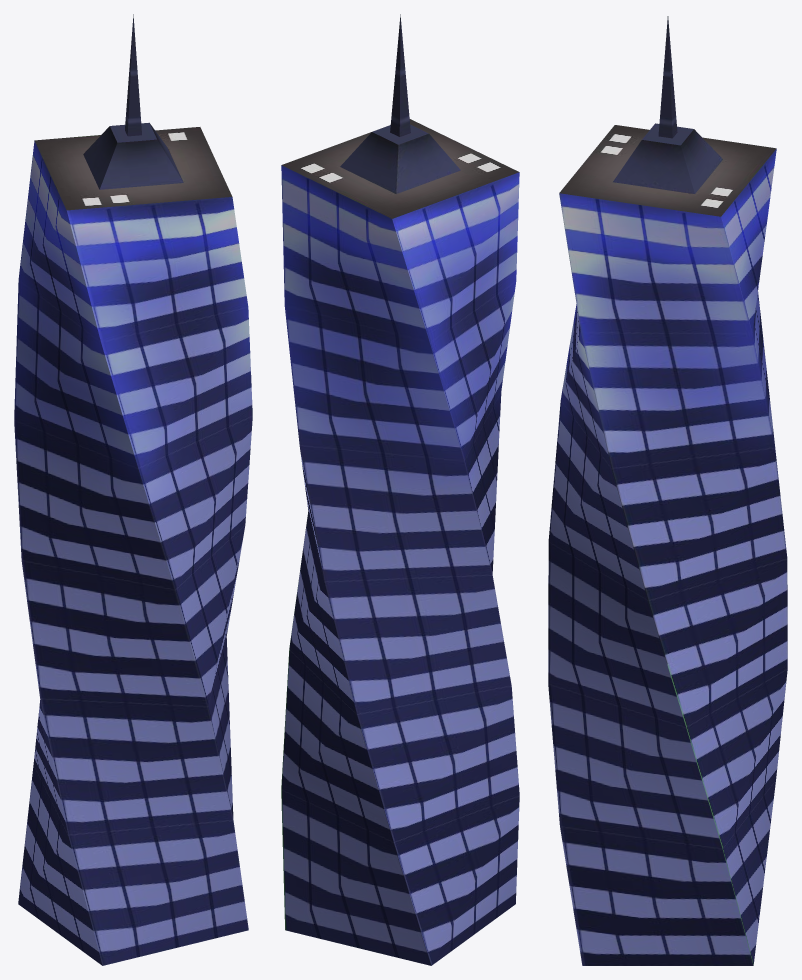
Rendered from House_15(2).FBX.
3 renders of one model, left to right at view 1: azimuth 30°, elevation 25°; view 2: azimuth 150°, elevation 25°; view 3: azimuth 270°, elevation 25°, orthographic.
Visible parts, largest first — view 1: House_15; view 2: House_15; view 3: House_15.
Part boxes in pixels (x1,y1,x2,y2): House_15: [14, 14, 252, 965]; House_15: [281, 14, 519, 965]; House_15: [548, 16, 787, 965].
Size of the model in its own units: 31.48 by 133 by 31.48.
1 material, 1 textured.
